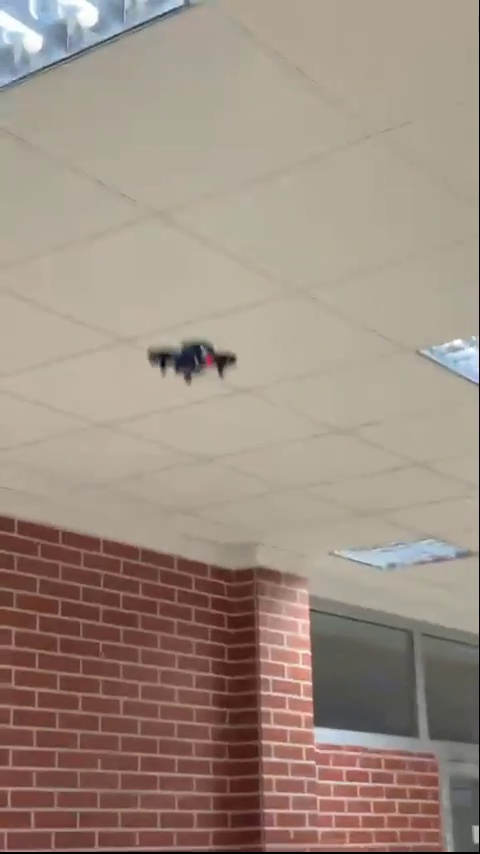drone: (147, 334, 240, 379)
